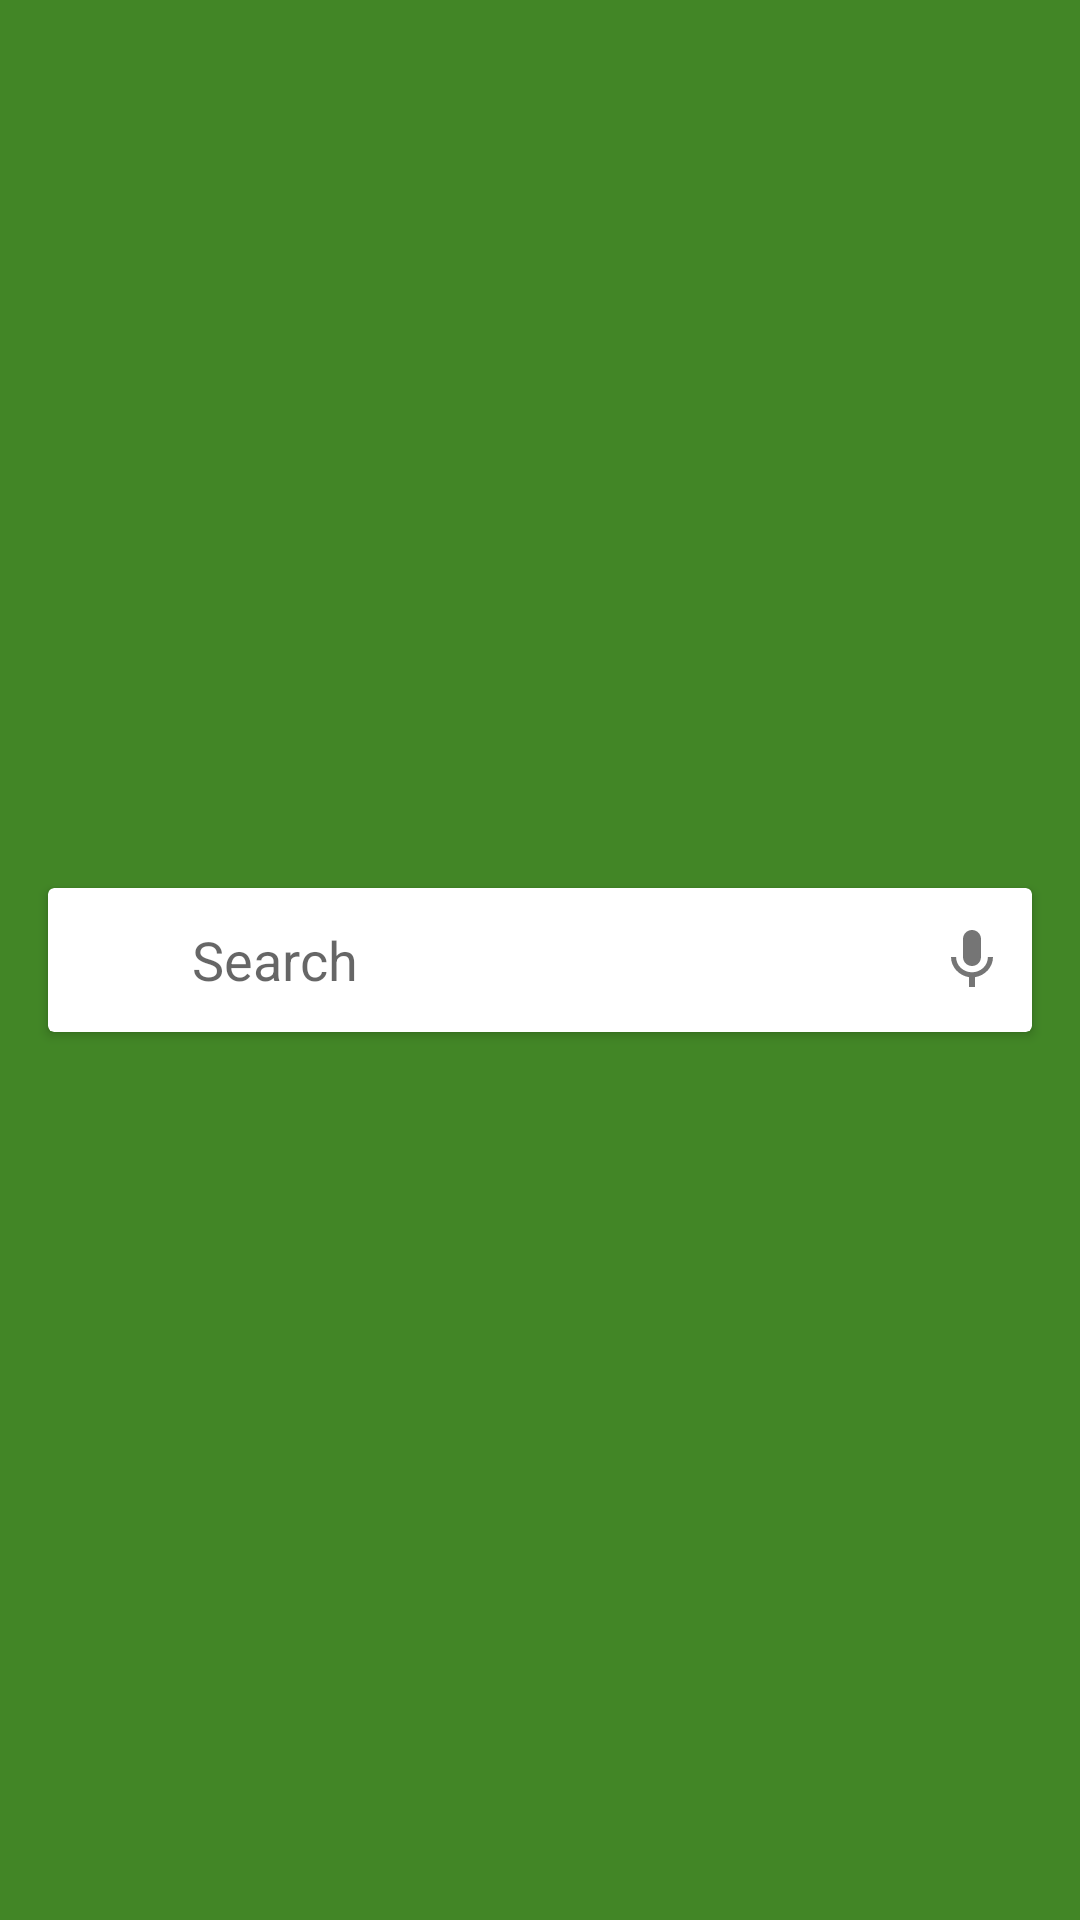

Icon bounding boxes for this 1080×1920 phone screenshot, format (x1, y1, x2, y2):
mic: (951, 930, 993, 987)
